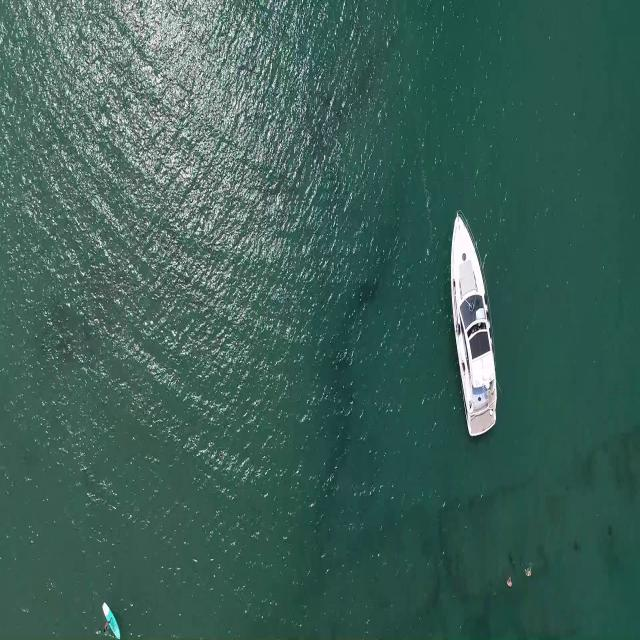boat: (448, 208, 503, 441)
person: (523, 564, 536, 578), (101, 608, 112, 622), (506, 576, 514, 586)
surfboard: (102, 599, 119, 640)
